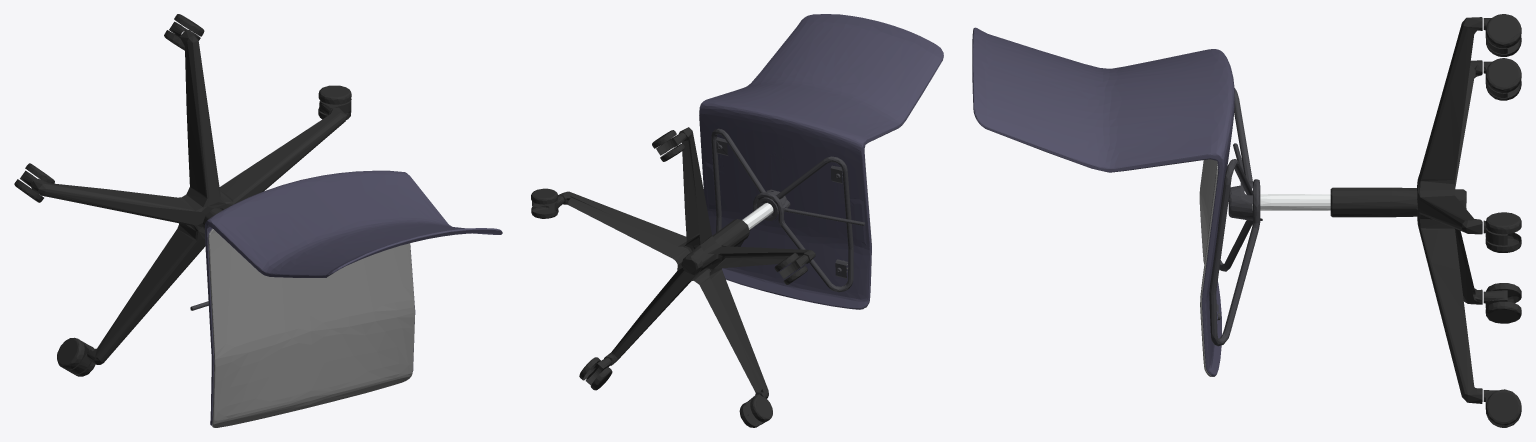
The model's file is 32242365LeiaSingleGlb-1.glb.
The picture shows the model from 3 angles, left to right: view 1: azimuth 30°, elevation 25°; view 2: azimuth 150°, elevation 25°; view 3: azimuth 270°, elevation 25°; orthographic projection. The views are drawn at different scales.
Parts seen in each view (by area): view 1: 66FF, 70AC, 9E5E, A60F; view 2: 70AC, 9E5E, 8B3D, A60F, CB94, CB29; view 3: 70AC, 9E5E, A60F, 8B3D, CB94, 66FF, CB29.
Part boxes in pixels (box(x1,y1,x2,y2)): 66FF: box(208, 228, 414, 427); 70AC: box(205, 170, 502, 425); 9E5E: box(31, 29, 346, 364); A60F: box(14, 14, 351, 376); 70AC: box(699, 14, 943, 309); 9E5E: box(558, 127, 815, 398); 8B3D: box(711, 128, 865, 292); A60F: box(531, 130, 808, 427); CB94: box(681, 219, 749, 275); CB29: box(742, 203, 773, 229); 70AC: box(972, 27, 1234, 376); 9E5E: box(1416, 17, 1482, 403); A60F: box(1483, 14, 1521, 427); 8B3D: box(1209, 88, 1262, 346); CB94: box(1330, 187, 1466, 217); 66FF: box(1199, 159, 1217, 376); CB29: box(1252, 194, 1330, 210).
Size of the model in its own units: 0.7009 by 0.6761 by 0.9202.
